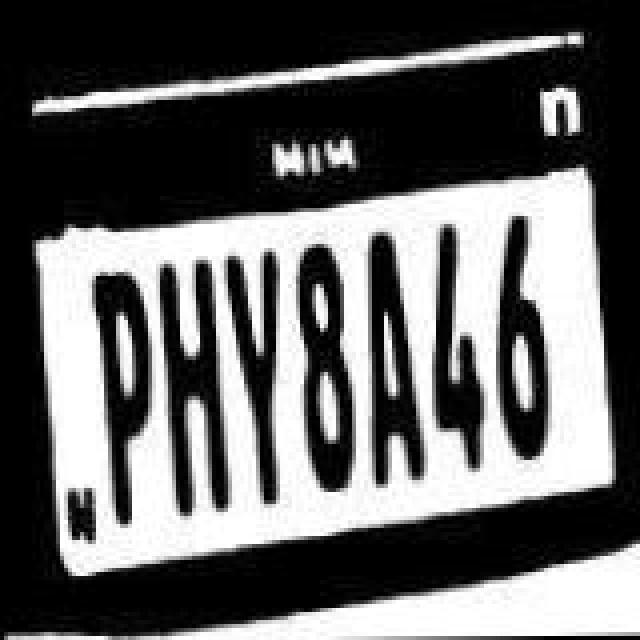4: (426, 208, 486, 484)
6: (490, 208, 550, 472)
8: (292, 236, 356, 500)
A: (360, 220, 424, 496)
H: (156, 254, 232, 518)
P: (90, 264, 154, 528)
Y: (224, 242, 288, 514)
